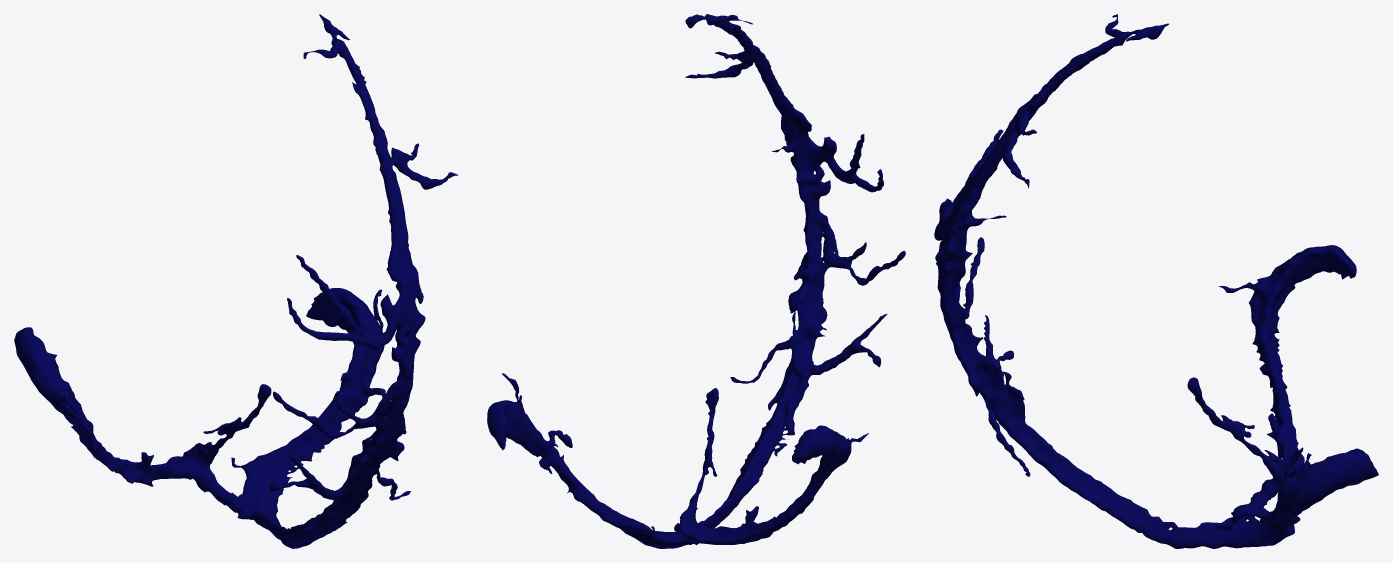
Rendered from Venous_sinus.obj.
The picture shows the model from 3 angles, left to right: view 1: azimuth 30°, elevation 25°; view 2: azimuth 150°, elevation 25°; view 3: azimuth 270°, elevation 25°; orthographic projection. The views are drawn at different scales.
Visible parts, largest first — view 1: grp1; view 2: grp1; view 3: grp1.
Part boxes in pixels (left/top/right/bottom): grp1: left=14, top=14, right=458, bottom=548; grp1: left=487, top=14, right=905, bottom=548; grp1: left=934, top=14, right=1378, bottom=548.
Bounding box in the file's own units: 110 × 156 × 116.
